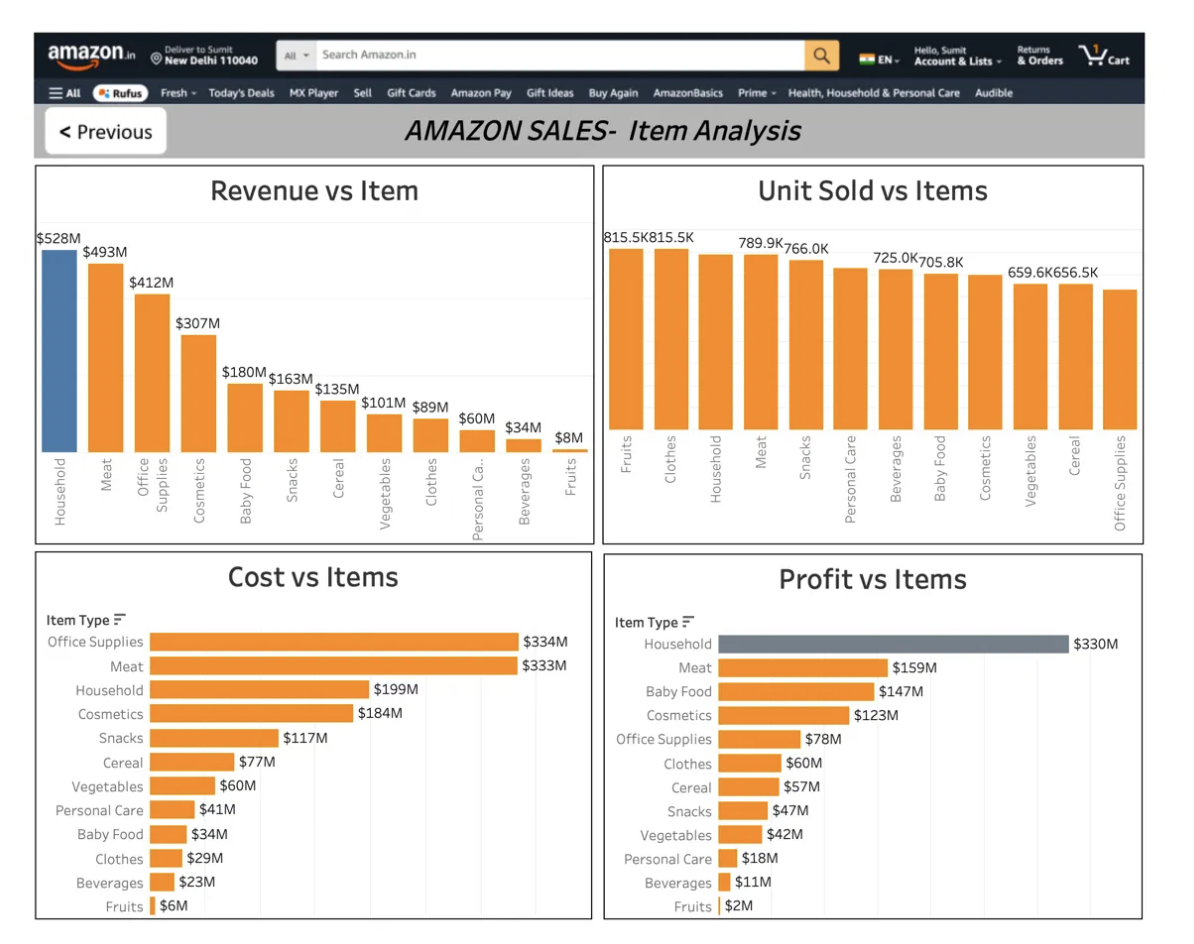

The dashboard page shown, as its layout file describes it:
{"tool":"tableau","page":{"name":"Item Analysis","canvas":[1000,800],"ordinal":2},"visuals":[{"type":"image","param":"/Users/sumitbhandari/Desktop/Screenshot 2026-05-27 at 1.45.00 PM.png","box":[8,5,981,70]},{"type":"blank","box":[8,68,981,48]},{"type":"dashboard-object","box":[9,70,126,48]},{"type":"text","box":[252,70,518,41]},{"type":"worksheet","title":"Revenue vs Item","mark":"Automatic","rows":["Total Revenue"],"cols":["Item Type"],"box":[9,122,494,335]},{"type":"worksheet","title":"Unit Sold vs Items","mark":"Automatic","rows":["Units Sold"],"cols":["Item Type"],"box":[510,122,478,335]},{"type":"worksheet","title":"Cost vs Items","mark":"Automatic","rows":["Item Type"],"cols":["Total Cost"],"box":[9,463,492,325]},{"type":"worksheet","title":"Profit vs Items","mark":"Automatic","rows":["Item Type"],"cols":["Calculation_4108949743292417"],"box":[511,465,476,323]}]}

Visuals, with their boxes on the page's 1000x800 design canvas (x1, y1, x2, y2). These are canvas units, not pixel positions in the 1194x944 screenshot, which may show the page scaled, cropped or inside an application window:
image: <region>8, 5, 989, 75</region>
blank: <region>8, 68, 989, 116</region>
dashboard-object: <region>9, 70, 135, 118</region>
text: <region>252, 70, 770, 111</region>
"Revenue vs Item" worksheet: <region>9, 122, 503, 457</region>
"Unit Sold vs Items" worksheet: <region>510, 122, 988, 457</region>
"Cost vs Items" worksheet: <region>9, 463, 501, 788</region>
"Profit vs Items" worksheet: <region>511, 465, 987, 788</region>
